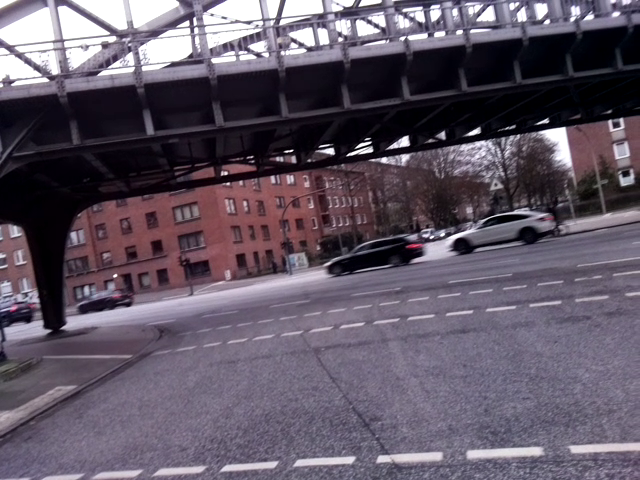car: (441, 212, 573, 254), (318, 237, 420, 269)
